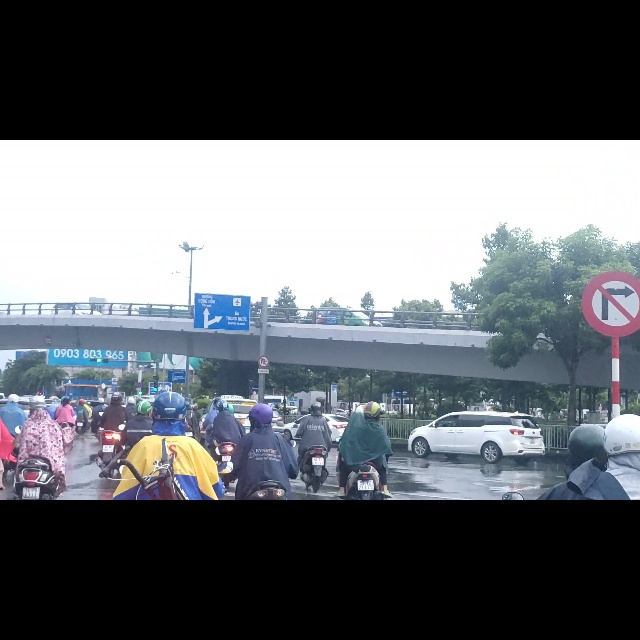bien_cam: (581, 231, 640, 352), (258, 383, 269, 405)
